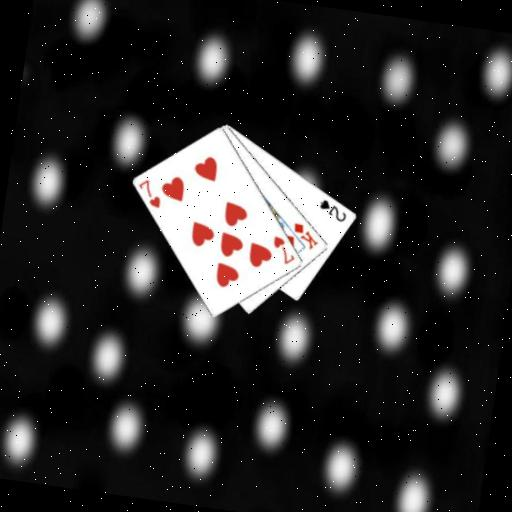2S: (315, 196, 350, 224)
7H: (267, 233, 300, 268), (133, 175, 166, 210)
KD: (289, 219, 323, 252)
